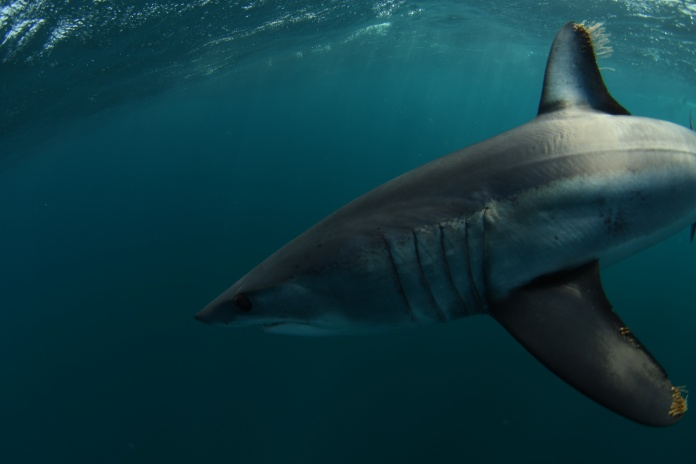Mako: (183, 15, 696, 432)
